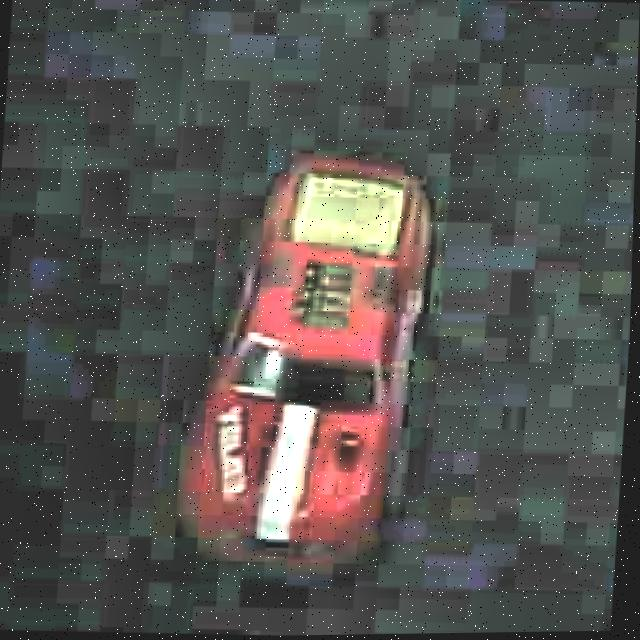car: (161, 134, 453, 591)
